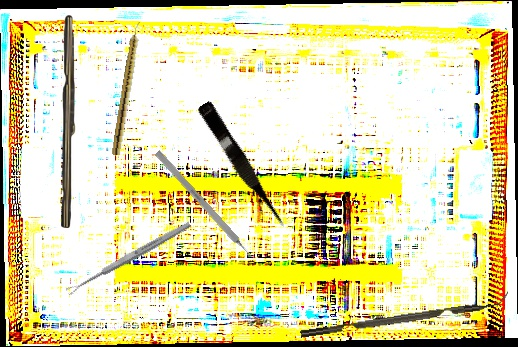Chopper: (298, 291, 511, 338)
Handpiece: (111, 20, 144, 157)
Hook Surgical: (154, 149, 258, 264)
Micro Scissor: (194, 100, 290, 233)
Scalpel Handle: (61, 15, 77, 228)
Surgical Spoon: (65, 220, 192, 296)
